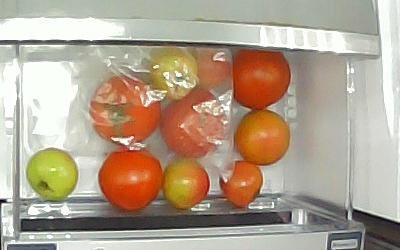tomato: (98, 148, 164, 212), (230, 49, 291, 111), (233, 109, 291, 165), (25, 148, 79, 201), (163, 158, 210, 210), (220, 161, 264, 209)
tomato_vinyl: (90, 73, 162, 147), (162, 88, 226, 157), (145, 47, 198, 100), (191, 47, 232, 93)
